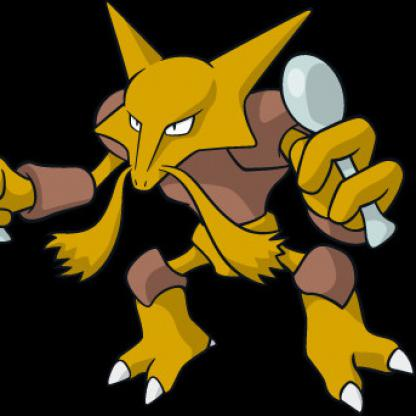Alakazam: (23, 1, 414, 412)
